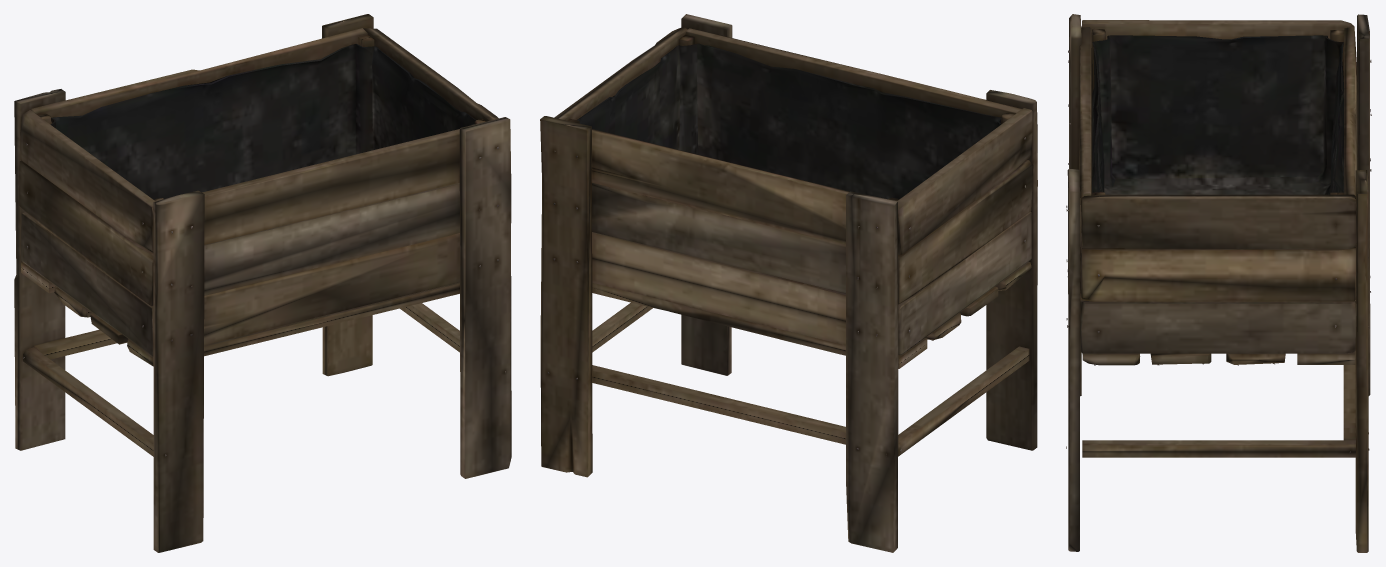
Rendered from scene-planter2.glb.
3 views of the same model, side by side, from view 1: azimuth 30°, elevation 25°; view 2: azimuth 150°, elevation 25°; view 3: azimuth 270°, elevation 25° (orthographic). The views are drawn at different scales.
Parts seen in each view (by area): view 1: planter_box_03; view 2: planter_box_03; view 3: planter_box_03.
Part boxes in pixels (x1,y1,x2,y2): planter_box_03: [14, 14, 511, 552]; planter_box_03: [540, 14, 1037, 552]; planter_box_03: [1066, 14, 1371, 552].
Size of the model in its own units: 0.9139 by 0.8545 by 0.6555.
1 material, 1 textured.
